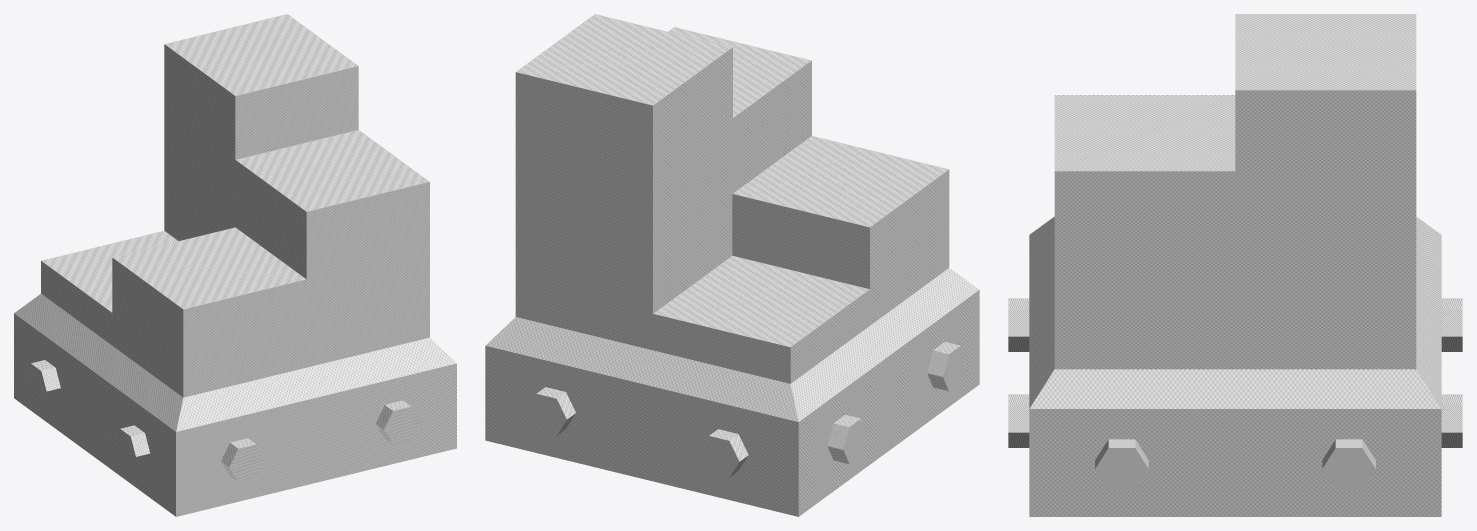
Rendered from Electronics.dae.
3 views of the same model, side by side, from view 1: azimuth 30°, elevation 25°; view 2: azimuth 150°, elevation 25°; view 3: azimuth 270°, elevation 25° (orthographic). The views are drawn at different scales.
Parts seen in each view (by area): view 1: Electronics; view 2: Electronics; view 3: Electronics.
Boxes of the visible parts, x1,y1,x2,y2 form: Electronics: [14, 14, 456, 516]; Electronics: [485, 14, 979, 516]; Electronics: [1008, 14, 1462, 516].
Size of the model in its own units: 2 by 2.02 by 2.
